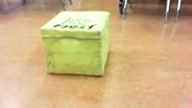cube: (40, 11, 109, 77)
